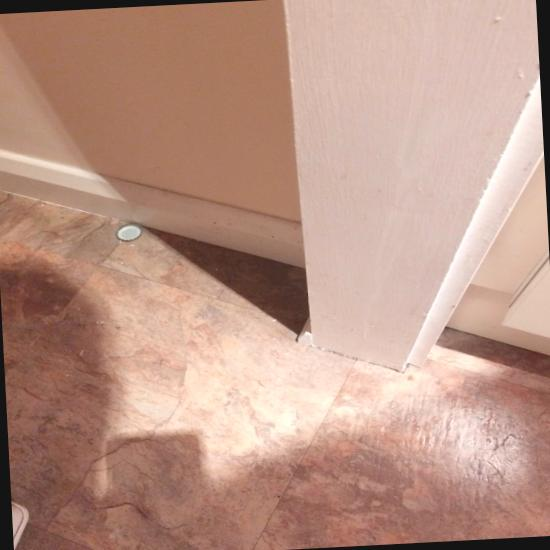Metal bottle cap: (115, 224, 142, 241)
